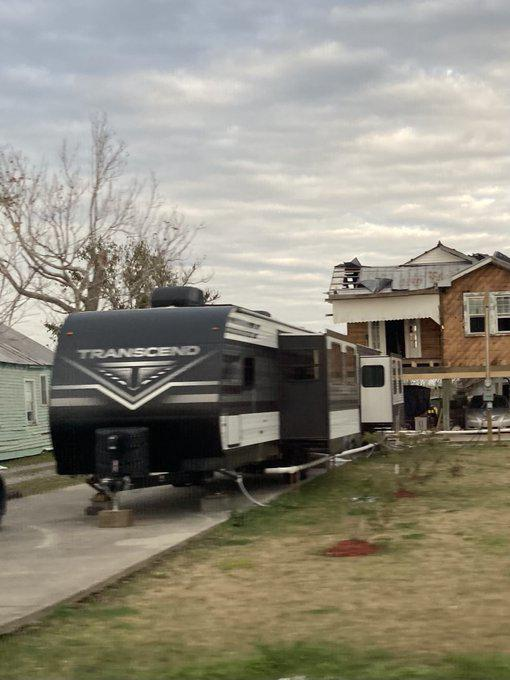major: (319, 216, 510, 464)
